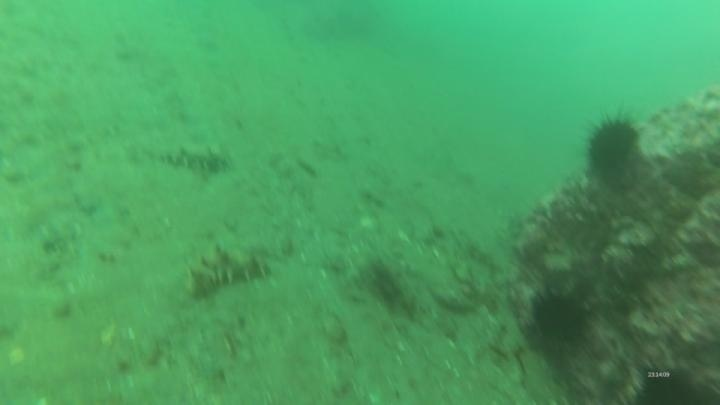echinus: (579, 110, 644, 185), (527, 286, 593, 351)
holothurian: (180, 239, 275, 301), (154, 140, 233, 178)
